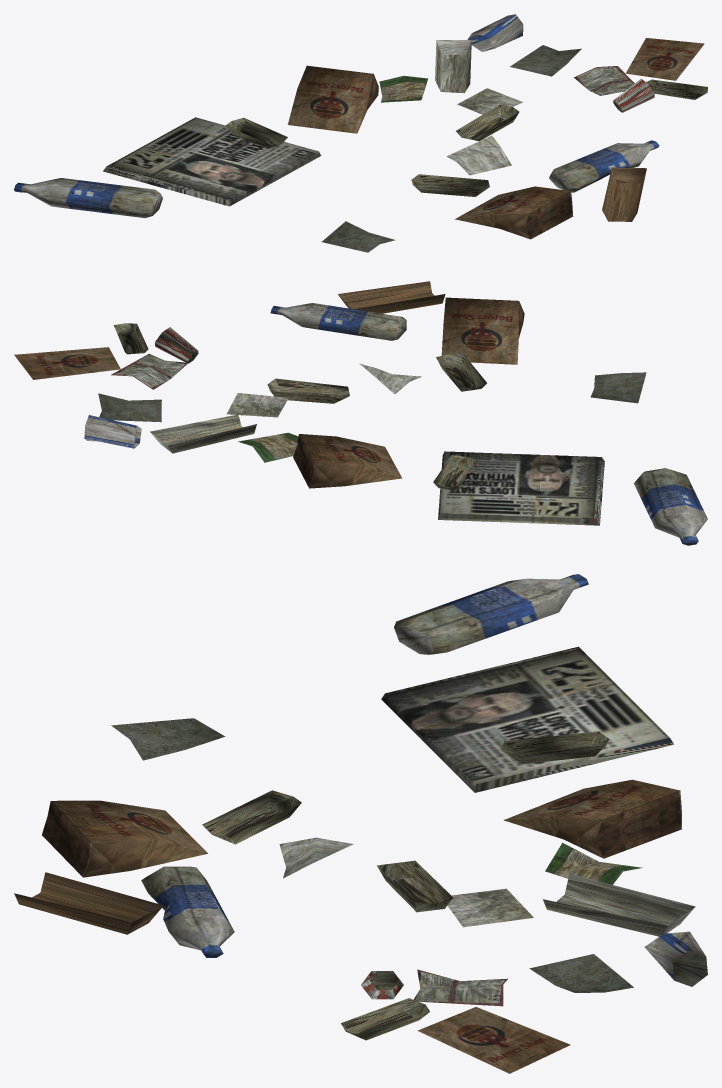
The model's file is trash 2.fbx.
The picture shows the model from 3 angles, top to bottom: view 1: azimuth 30°, elevation 25°; view 2: azimuth 150°, elevation 25°; view 3: azimuth 270°, elevation 25°; orthographic projection. The views are drawn at different scales.
Visible parts, largest first — view 1: litter2_f3_reference.smd; view 2: litter2_f3_reference.smd; view 3: litter2_f3_reference.smd.
Boxes of the visible parts, x1=… form: litter2_f3_reference.smd: x1=14, y1=14, x2=707, y2=252; litter2_f3_reference.smd: x1=14, y1=281, x2=707, y2=545; litter2_f3_reference.smd: x1=14, y1=574, x2=707, y2=1073.
Size of the model in its own units: 149 by 5.99 by 88.08.
Materials: 1 (1 with a texture image).
